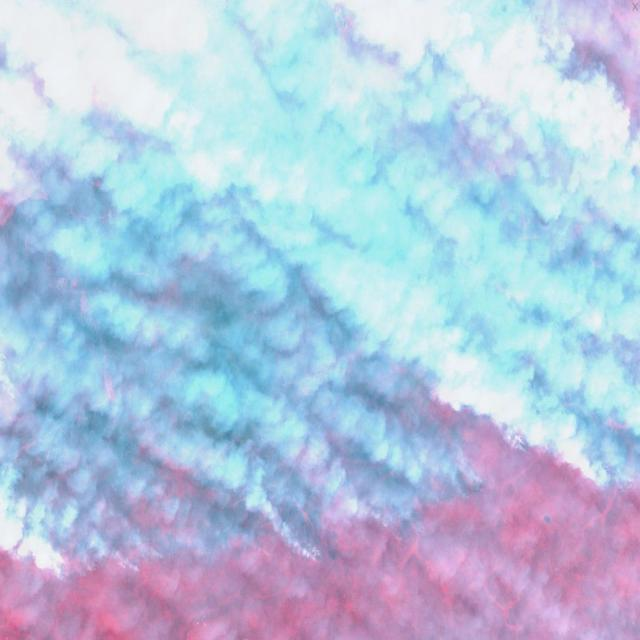fire: (143, 445, 484, 583), (467, 0, 640, 201), (0, 328, 131, 583), (491, 390, 640, 512), (0, 78, 96, 167)
